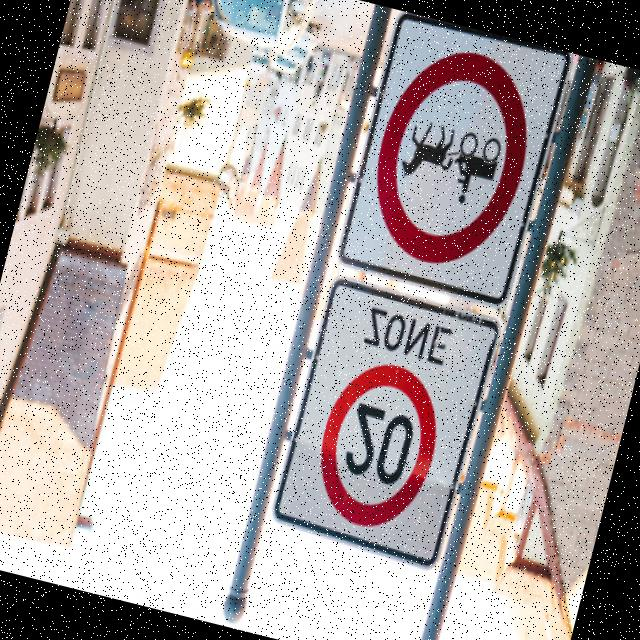speed_limit_20: (298, 344, 457, 544)
